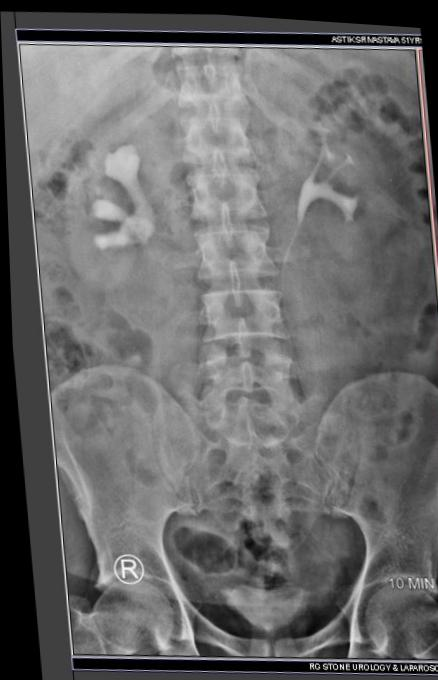bladder: (185, 585, 303, 671)
left kidney: (260, 65, 401, 257)
right kidney: (6, 89, 146, 291)
vertebrae: (154, 137, 246, 208)
